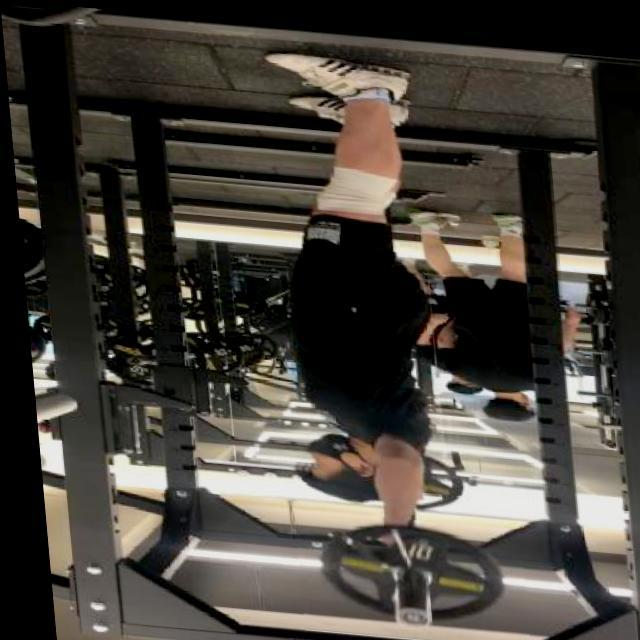barbell: (287, 505, 521, 640)
